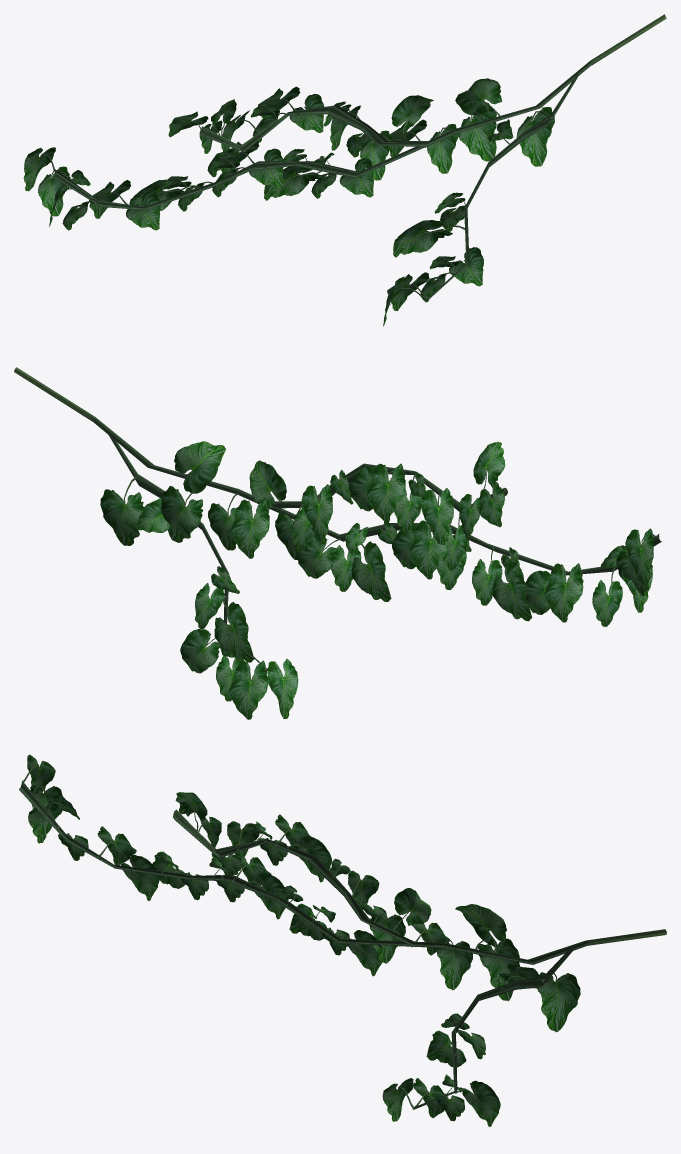
The model's file is VineBranch.fbx.
The picture shows the model from 3 angles, top to bottom: view 1: azimuth 30°, elevation 25°; view 2: azimuth 150°, elevation 25°; view 3: azimuth 330°, elevation 25°; orthographic projection. The views are drawn at different scales.
Visible parts, largest first — view 1: branch; view 2: branch; view 3: branch.
Boxes of the visible parts, bbox=[...] form: branch: bbox=[23, 14, 666, 326]; branch: bbox=[14, 367, 661, 719]; branch: bbox=[19, 754, 666, 1126].
Bounding box in the file's own units: 78.26 × 35.24 × 8.89.
1 material, 1 textured.
